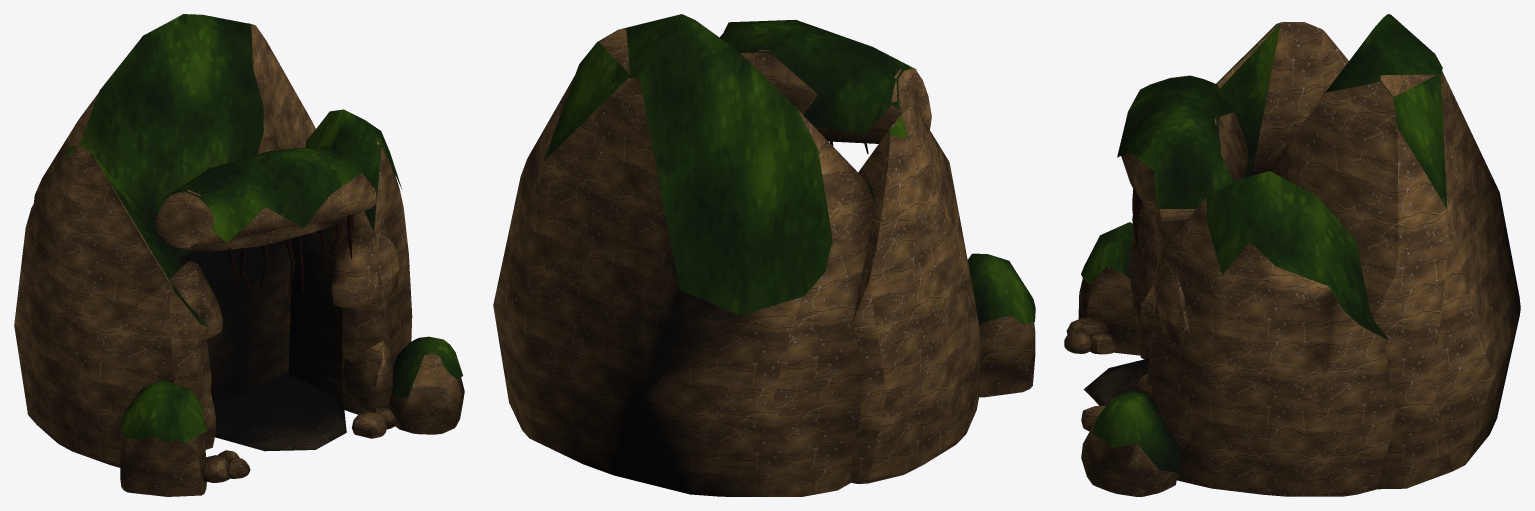
The model's file is cave_mouth_mud.glb.
The picture shows the model from 3 angles, left to right: view 1: azimuth 30°, elevation 25°; view 2: azimuth 150°, elevation 25°; view 3: azimuth 270°, elevation 25°; orthographic projection. The views are drawn at different scales.
Parts seen in each view (by area): view 1: cave_mouth_mud; view 2: cave_mouth_mud; view 3: cave_mouth_mud.
Part boxes in pixels (box(x1,y1,x2,y2)): cave_mouth_mud: box(14, 14, 464, 496); cave_mouth_mud: box(493, 14, 1035, 496); cave_mouth_mud: box(1064, 14, 1520, 496).
Bounding box in the file's own units: 3.16 × 3.05 × 3.22.
5 materials, 3 textured.
